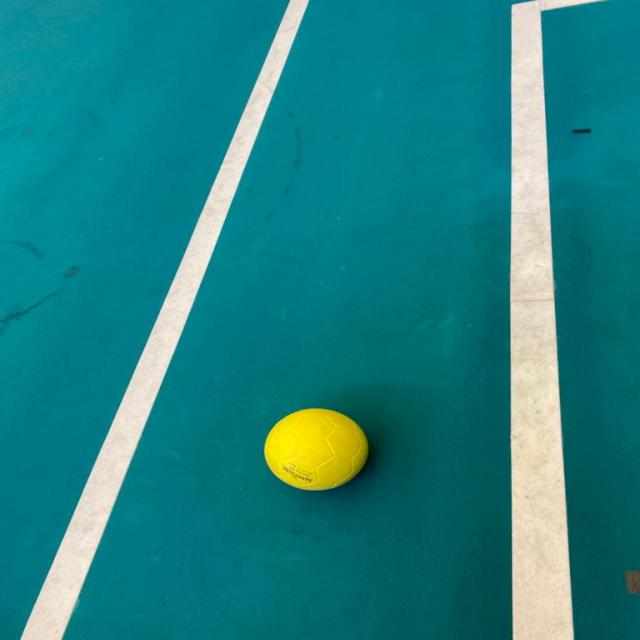ball: (257, 396, 376, 502)
